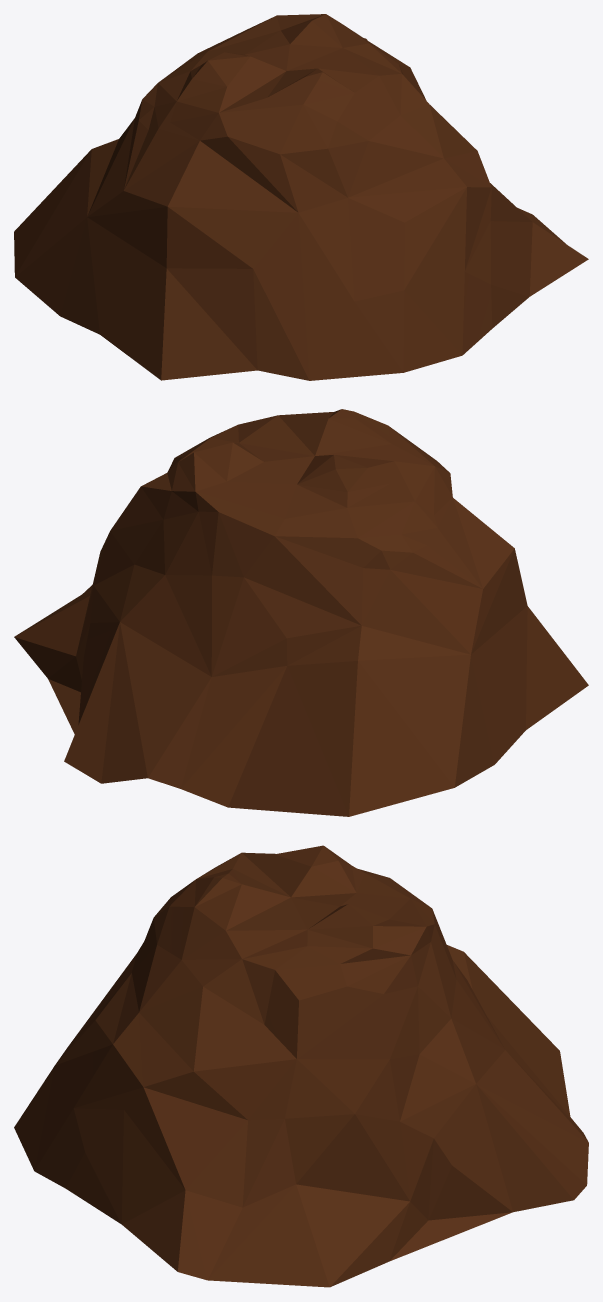
The model's file is rockv3.fbx.
3 views of the same model, one above another, from view 1: azimuth 30°, elevation 25°; view 2: azimuth 150°, elevation 25°; view 3: azimuth 270°, elevation 25° (orthographic). The views are drawn at different scales.
Parts seen in each view (by area): view 1: Cube.001, Cube.003, Cube.002, Cube.004; view 2: Cube.001, Cube.003, Cube.002, Cube.004; view 3: Cube.001, Cube.003, Cube.002, Cube.004.
Boxes of the visible parts, x1=… form: Cube.001: x1=14, y1=15, x2=588, y2=380; Cube.003: x1=177, y1=52, x2=285, y2=112; Cube.002: x1=267, y1=68, x2=378, y2=104; Cube.004: x1=276, y1=14, x2=342, y2=47; Cube.001: x1=14, y1=415, x2=588, y2=816; Cube.003: x1=297, y1=455, x2=434, y2=507; Cube.002: x1=278, y1=409, x2=391, y2=455; Cube.004: x1=178, y1=442, x2=263, y2=491; Cube.001: x1=14, y1=853, x2=588, y2=1287; Cube.003: x1=242, y1=845, x2=364, y2=897; Cube.002: x1=194, y1=869, x2=290, y2=930; Cube.004: x1=308, y1=904, x2=425, y2=948.
Bounding box in the file's own units: 2291 × 1159 × 2198.
